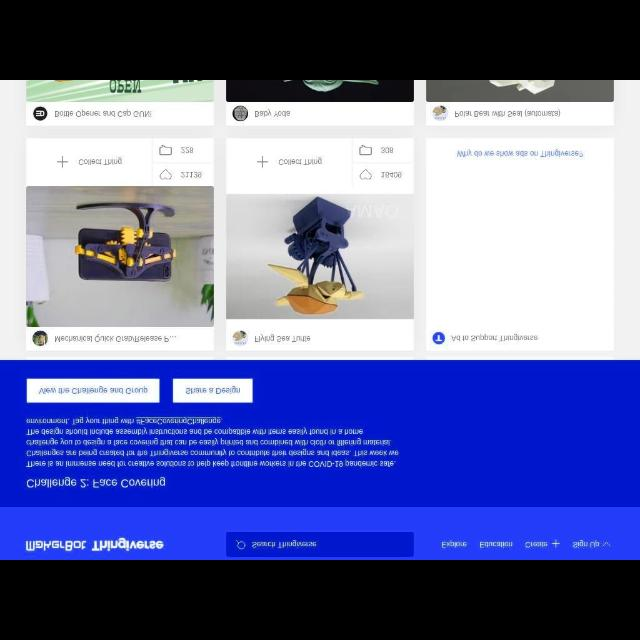icon: (232, 330, 248, 348), (32, 330, 48, 348), (31, 106, 49, 122), (231, 106, 247, 122), (432, 106, 448, 122), (358, 143, 374, 157), (57, 153, 69, 170), (159, 168, 173, 182), (158, 144, 174, 156), (233, 539, 247, 551), (432, 332, 446, 344), (360, 168, 372, 182), (257, 156, 269, 168), (552, 538, 562, 548), (603, 540, 611, 550)
image: (28, 187, 212, 326), (228, 196, 412, 320), (426, 81, 614, 101), (226, 81, 412, 101), (27, 81, 212, 101), (22, 534, 168, 556)
input: (226, 531, 414, 557)
link: (454, 148, 584, 160)
spinner: (568, 536, 616, 554)
text: (27, 416, 401, 470), (26, 476, 166, 490), (39, 383, 151, 397), (54, 333, 176, 345), (454, 107, 562, 119), (54, 108, 152, 120), (452, 331, 538, 343), (252, 538, 318, 550), (186, 386, 240, 398), (254, 334, 312, 344), (279, 156, 325, 168), (254, 109, 292, 119), (478, 540, 514, 550), (78, 158, 122, 166), (380, 168, 404, 182), (570, 540, 600, 550), (440, 539, 468, 549), (526, 539, 548, 549), (182, 168, 202, 178), (180, 146, 198, 156), (382, 146, 394, 154)
textbutton: (26, 380, 160, 404), (173, 378, 254, 404)
toolbar: (1, 506, 639, 558)
